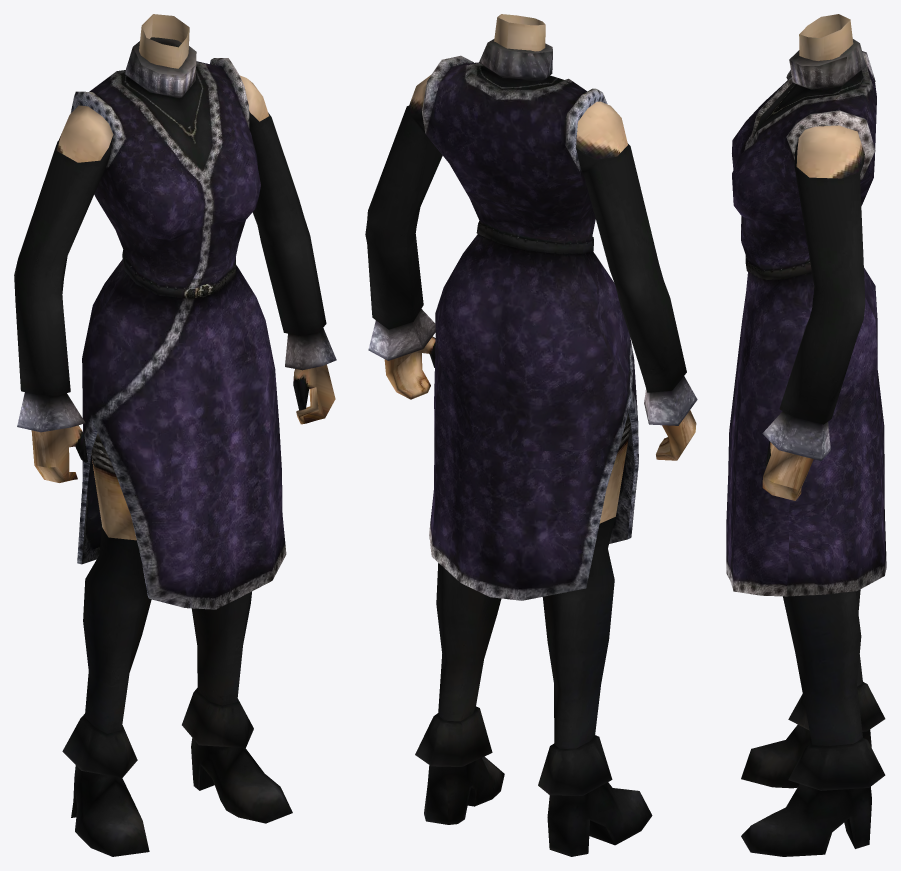
The model's file is HUM_ARMOR_DRESS_06.glb.
3 renders of one model, left to right at view 1: azimuth 30°, elevation 25°; view 2: azimuth 150°, elevation 25°; view 3: azimuth 270°, elevation 25°, orthographic. The views are drawn at different scales.
Visible parts, largest first — view 1: HUM_ARMOR_DRESS_06; view 2: HUM_ARMOR_DRESS_06; view 3: HUM_ARMOR_DRESS_06.
Boxes of the visible parts, x1,y1,x2,y2 form: HUM_ARMOR_DRESS_06: (14,14,336,856); HUM_ARMOR_DRESS_06: (365,14,697,856); HUM_ARMOR_DRESS_06: (726,14,886,856).
Size of the model in its own units: 0.6694 by 1.67 by 0.307.
2 materials, 2 textured.
